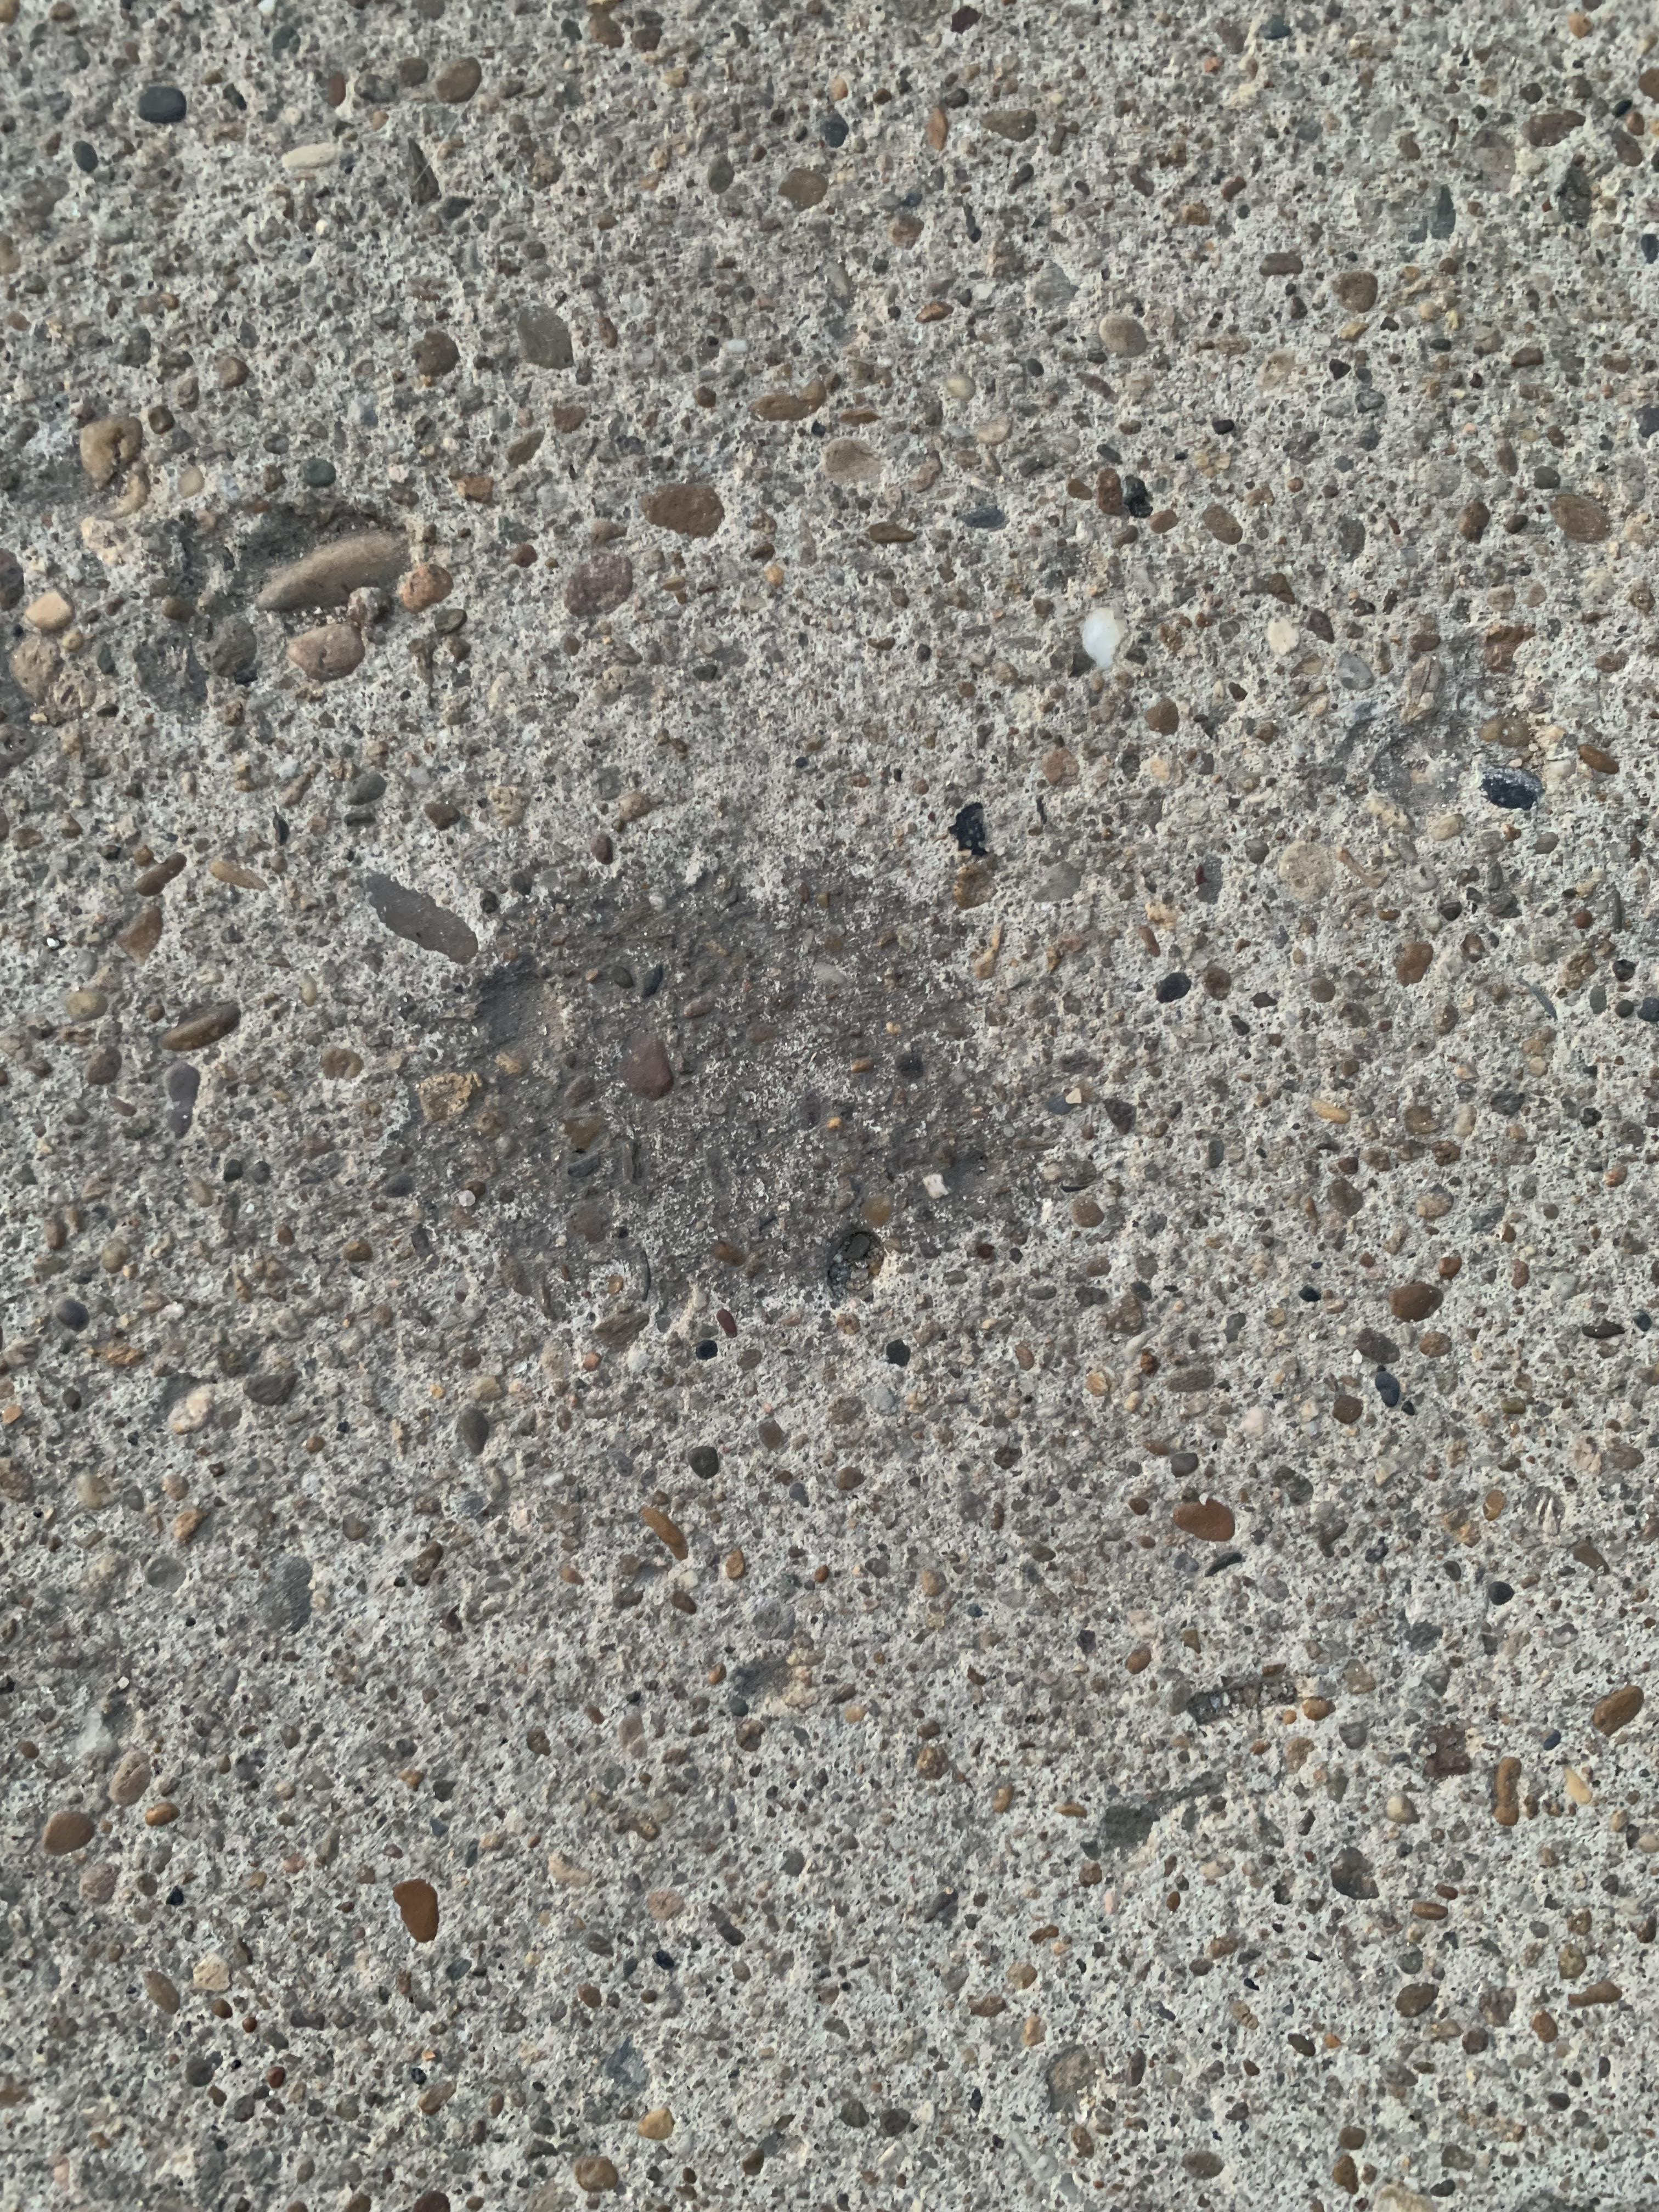grey spot: (373, 867, 1033, 1318)
